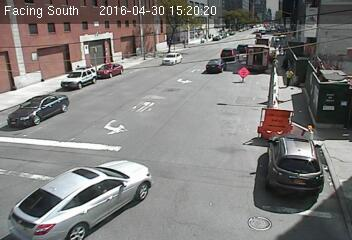neg: (276, 117, 291, 136), (198, 87, 212, 106), (244, 41, 254, 54)
pos: (279, 66, 295, 88), (275, 41, 284, 54)
